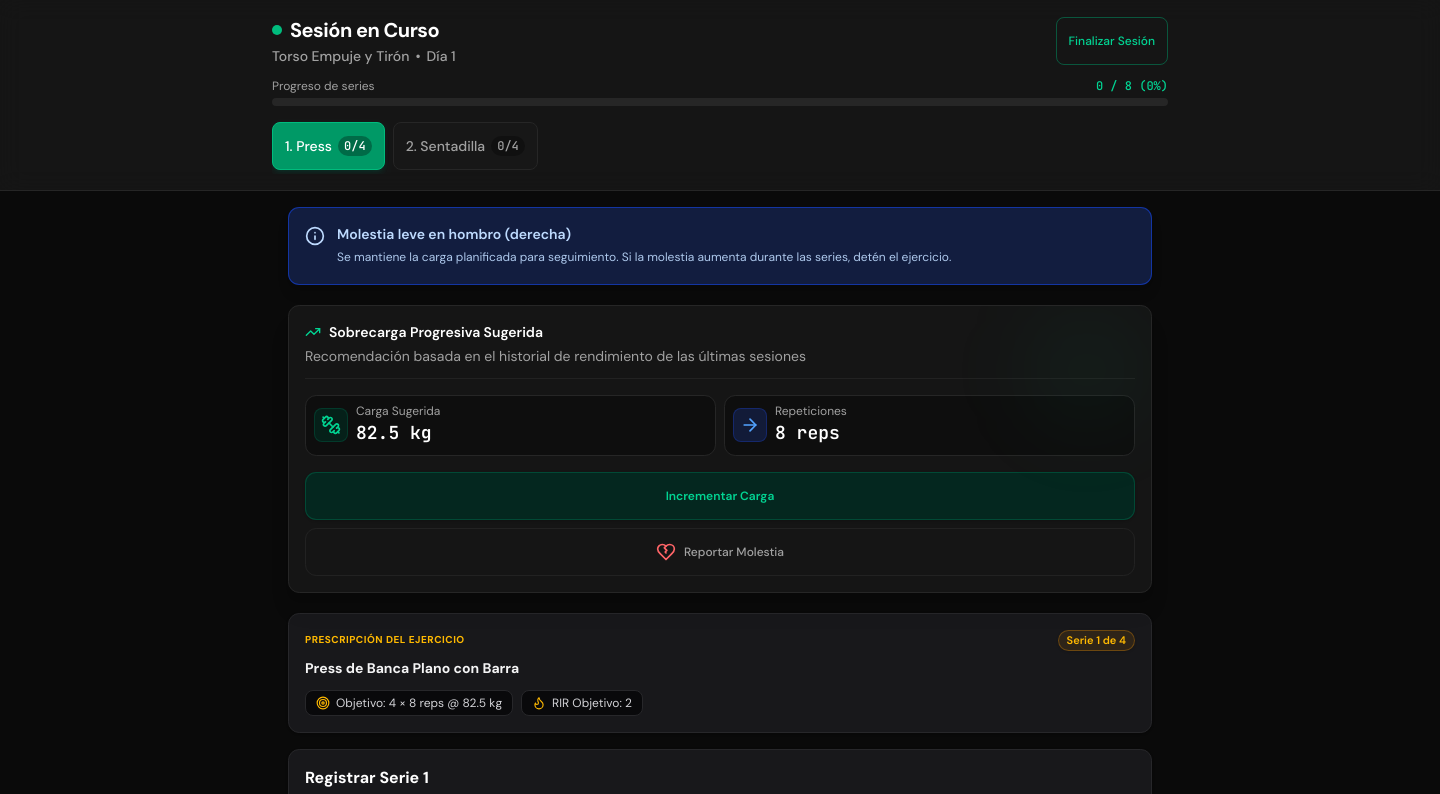
Test: TASK-70: SessionPage - Progressive Overload & Fatigue/Pain Adjustments (RF-07, RF-08, CA-07.1, CA-08.3) › should allow switching between planned exercises and update progression suggestion accordingly
// Switch to exercise 2: Sentadilla
Step 1. Click the button "2. Sentadilla 0/4" → click(465, 146), box left=393, top=122, right=538, bottom=170
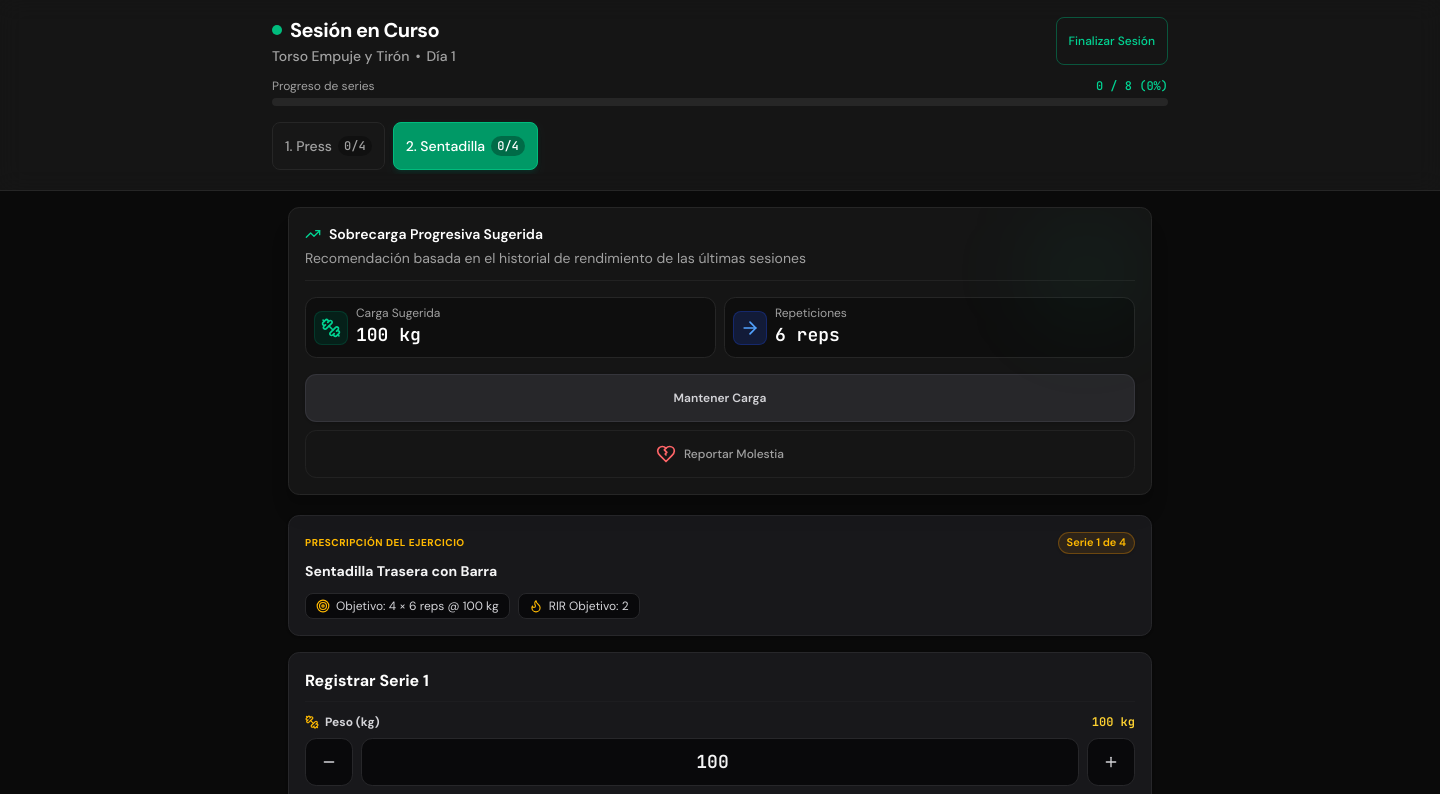
Check: the element with test id "progression-suggestion-card" shows "Mantener Carga", box left=674, top=390, right=766, bottom=406
